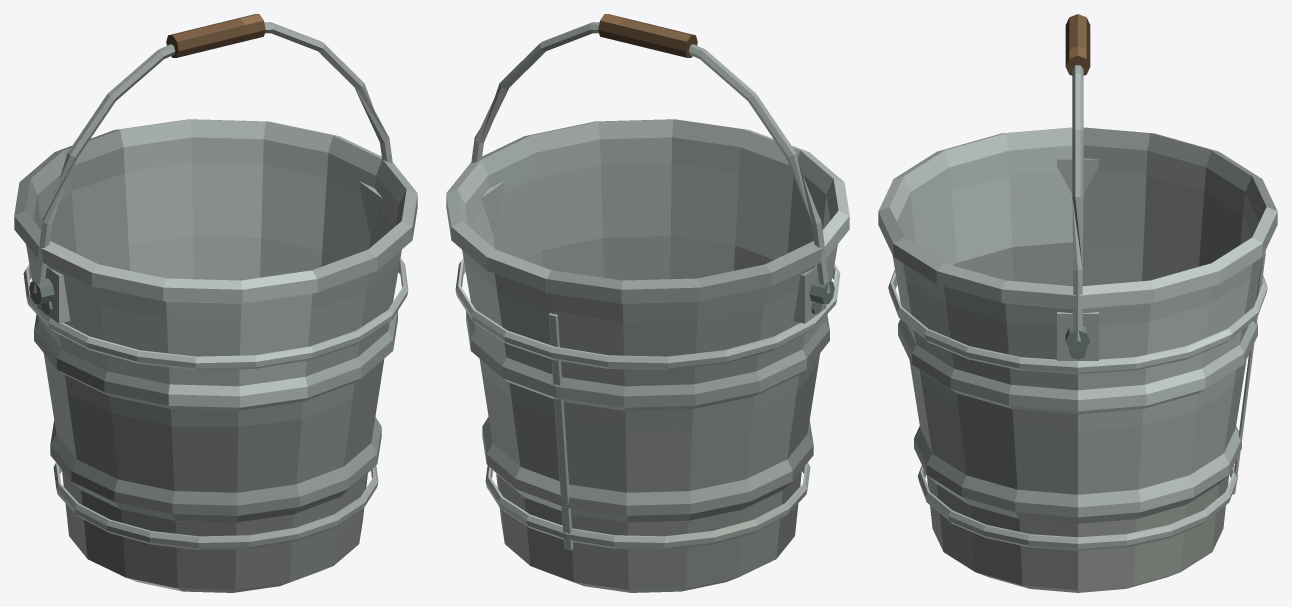
Rendered from galvanized-bucket.glb.
3 views of the same model, side by side, from view 1: azimuth 30°, elevation 25°; view 2: azimuth 150°, elevation 25°; view 3: azimuth 270°, elevation 25° (orthographic).
Parts seen in each view (by area): view 1: galvanized-bucket/folded-galvanized-shell, galvanized-bucket/detail-pressed-rib-1, galvanized-bucket/wire-carry-handle, galvanized-bucket/detail-pressed-rib-0, galvanized-bucket/wooden-handle-grip, galvanized-bucket/pressed-handle-mount--1, galvanized-bucket/pressed-handle-mount-1; view 2: galvanized-bucket/folded-galvanized-shell, galvanized-bucket/detail-pressed-rib-1, galvanized-bucket/wire-carry-handle, galvanized-bucket/detail-pressed-rib-0, galvanized-bucket/wooden-handle-grip, galvanized-bucket/detail2-lock-seam, galvanized-bucket/pressed-handle-mount--1, galvanized-bucket/pressed-handle-mount-1; view 3: galvanized-bucket/folded-galvanized-shell, galvanized-bucket/detail-pressed-rib-1, galvanized-bucket/detail-pressed-rib-0, galvanized-bucket/wire-carry-handle, galvanized-bucket/wooden-handle-grip, galvanized-bucket/pressed-handle-mount-1, galvanized-bucket/detail2-lock-seam, galvanized-bucket/pressed-handle-mount--1.
Part boxes in pixels (x1,y1,x2,y2): galvanized-bucket/folded-galvanized-shell: [14, 119, 417, 592]; galvanized-bucket/detail-pressed-rib-1: [23, 258, 408, 370]; galvanized-bucket/wire-carry-handle: [33, 22, 392, 293]; galvanized-bucket/detail-pressed-rib-0: [53, 462, 378, 549]; galvanized-bucket/wooden-handle-grip: [166, 14, 265, 57]; galvanized-bucket/pressed-handle-mount--1: [37, 266, 70, 323]; galvanized-bucket/pressed-handle-mount-1: [359, 181, 381, 235]; galvanized-bucket/folded-galvanized-shell: [446, 119, 849, 592]; galvanized-bucket/detail-pressed-rib-1: [455, 258, 840, 370]; galvanized-bucket/wire-carry-handle: [471, 22, 830, 293]; galvanized-bucket/detail-pressed-rib-0: [485, 462, 810, 549]; galvanized-bucket/wooden-handle-grip: [598, 14, 697, 57]; galvanized-bucket/detail2-lock-seam: [548, 313, 573, 550]; galvanized-bucket/pressed-handle-mount--1: [793, 266, 826, 323]; galvanized-bucket/pressed-handle-mount-1: [482, 181, 504, 235]; galvanized-bucket/folded-galvanized-shell: [878, 127, 1277, 592]; galvanized-bucket/detail-pressed-rib-1: [888, 270, 1267, 374]; galvanized-bucket/detail-pressed-rib-0: [917, 465, 1238, 550]; galvanized-bucket/wire-carry-handle: [1072, 65, 1083, 341]; galvanized-bucket/wooden-handle-grip: [1065, 14, 1090, 75]; galvanized-bucket/pressed-handle-mount-1: [1057, 312, 1098, 360]; galvanized-bucket/detail2-lock-seam: [1232, 250, 1265, 494]; galvanized-bucket/pressed-handle-mount--1: [1057, 158, 1098, 193].
Bounding box in the file's own units: 0.3349 × 0.452 × 0.324.
4 materials, 4 textured.
